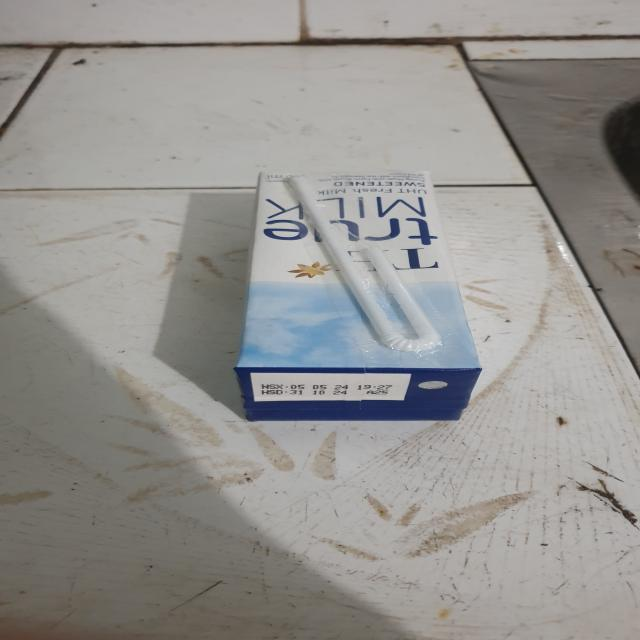TH: (228, 167, 489, 425)
